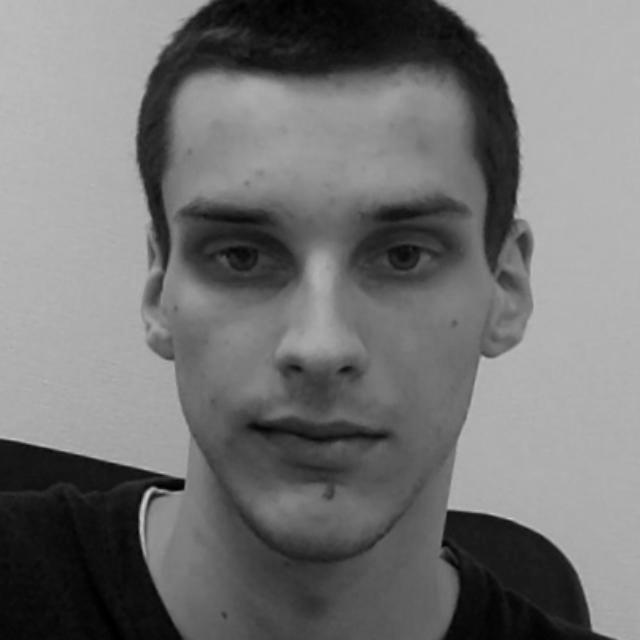real: (167, 71, 480, 563)
